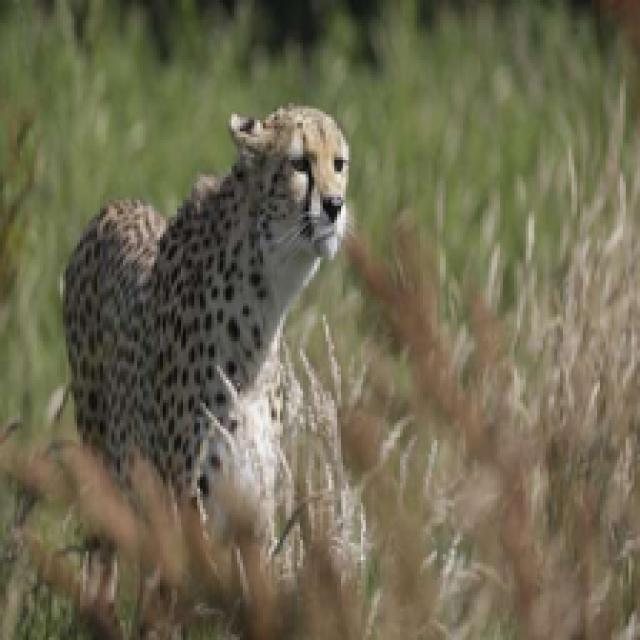cheetah: (56, 92, 380, 586)
